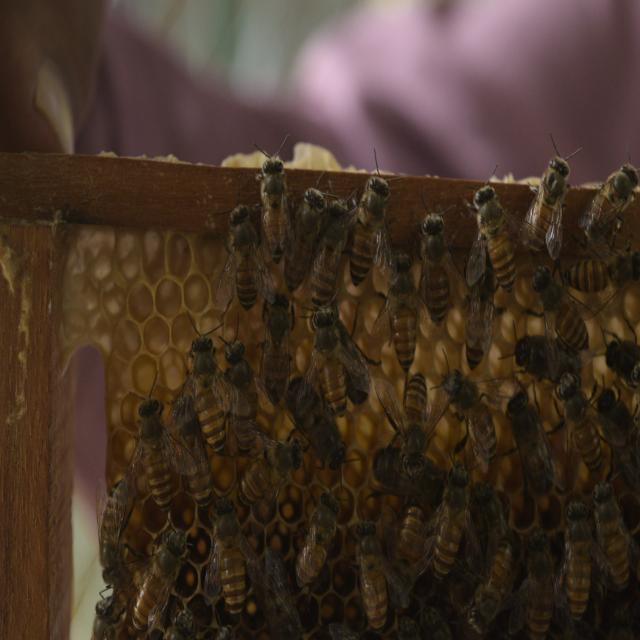honeybee: (437, 369, 501, 465), (532, 267, 601, 353), (129, 383, 170, 516), (469, 166, 515, 282), (310, 306, 356, 420), (467, 531, 515, 640), (292, 493, 338, 606), (510, 391, 559, 497), (204, 498, 246, 620), (556, 491, 596, 616), (133, 522, 176, 638), (292, 375, 340, 478), (414, 205, 452, 331), (580, 151, 640, 229), (596, 485, 640, 590), (169, 387, 207, 504), (352, 507, 388, 629), (521, 522, 558, 640), (599, 386, 640, 492), (89, 474, 127, 588), (527, 153, 573, 247), (350, 169, 387, 284), (190, 332, 226, 450), (240, 432, 304, 497), (437, 463, 473, 577), (508, 331, 575, 391), (559, 372, 600, 470), (382, 234, 413, 362), (307, 186, 343, 296), (382, 435, 442, 498), (460, 247, 492, 362), (565, 247, 640, 296), (276, 190, 315, 284), (258, 290, 289, 408), (226, 201, 258, 313), (398, 375, 433, 475), (225, 334, 256, 446), (255, 151, 288, 254), (388, 511, 425, 602), (468, 479, 504, 556), (605, 319, 640, 373)
